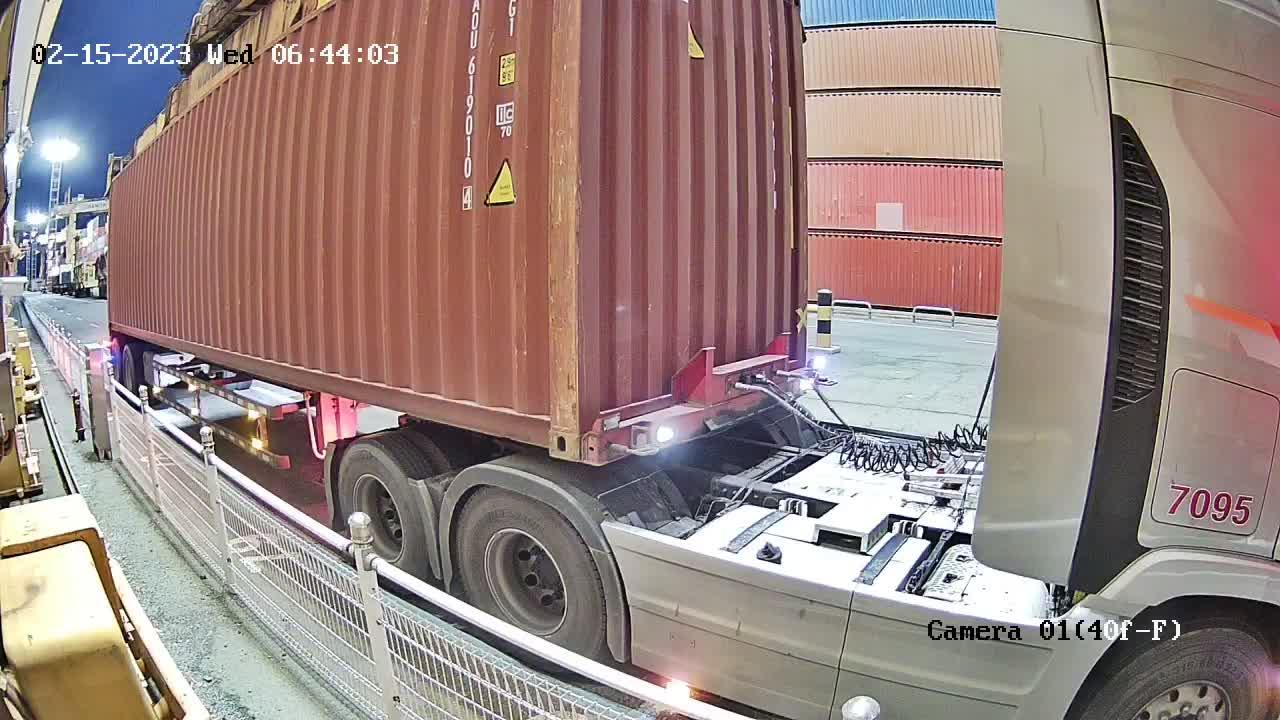Chassis: (579, 366, 821, 467)
Hole_L: (505, 385, 579, 460)
Tire: (457, 489, 607, 656), (329, 445, 425, 577)
